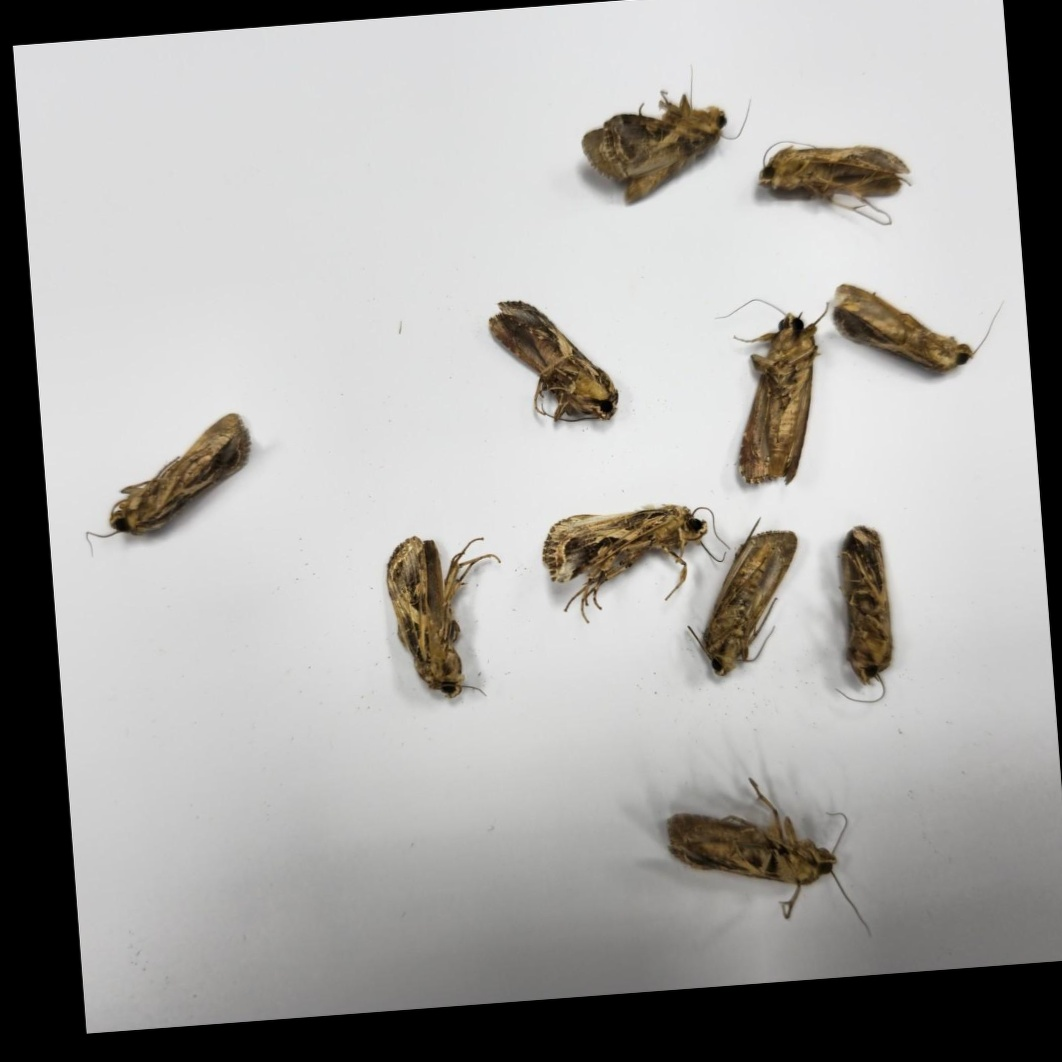Spodoptera litura: (668, 774, 867, 945), (580, 64, 753, 203), (80, 416, 254, 552), (720, 296, 837, 486), (542, 504, 730, 618), (388, 531, 504, 698), (685, 516, 801, 672), (831, 276, 1005, 374), (490, 295, 614, 425), (756, 135, 910, 228), (827, 523, 892, 704)
